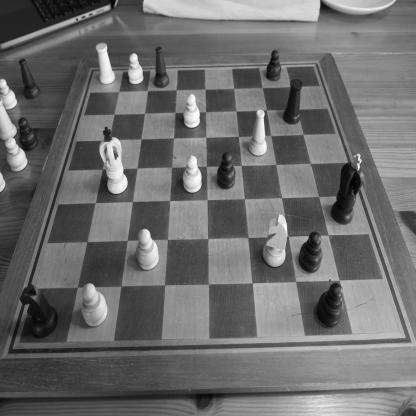black-bishop: (18, 58, 41, 100), (153, 46, 170, 89)
black-king: (331, 152, 365, 224)
black-knight: (20, 284, 59, 340)
black-pawn: (316, 283, 344, 328), (298, 230, 323, 273), (216, 151, 237, 189), (17, 117, 39, 152), (265, 48, 282, 82)
black-rook: (283, 78, 304, 124)
white-bishop: (248, 109, 267, 157)
white-king: (98, 127, 129, 196)
white-knight: (261, 214, 288, 270)
white-pawn: (81, 282, 108, 328), (136, 228, 160, 272), (5, 137, 28, 173), (182, 156, 203, 194), (183, 93, 201, 129), (128, 52, 144, 86), (1, 78, 17, 112)
white-rook: (96, 42, 116, 86)
